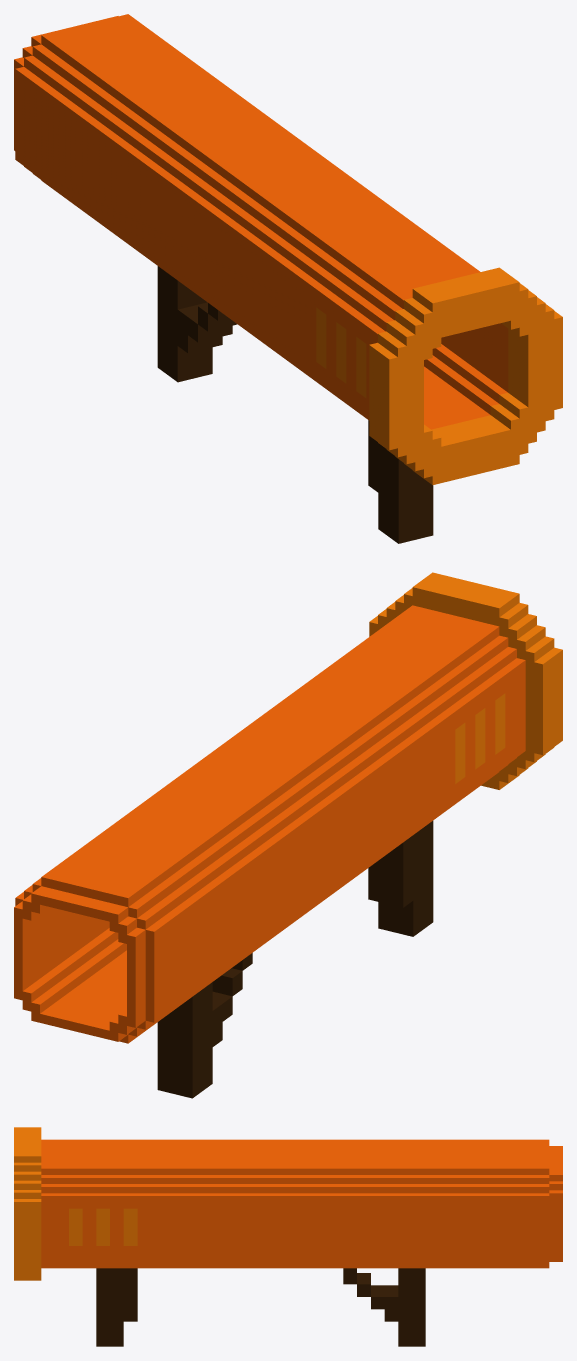
File: stock_launcher.obj
3 views of the same model, one above another, from view 1: azimuth 30°, elevation 25°; view 2: azimuth 150°, elevation 25°; view 3: azimuth 270°, elevation 25° (orthographic). The views are drawn at different scales.
Size of the model in its own units: 2 by 3.2 by 8.
Materials: 1 (1 with a texture image).
